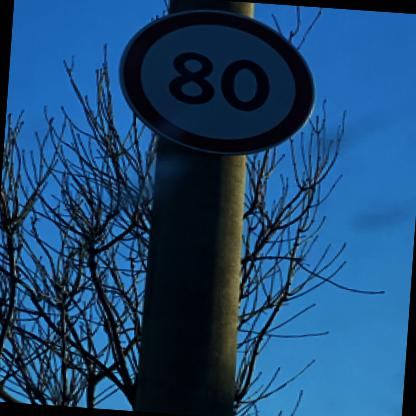speedlimit: (110, 2, 318, 161)
